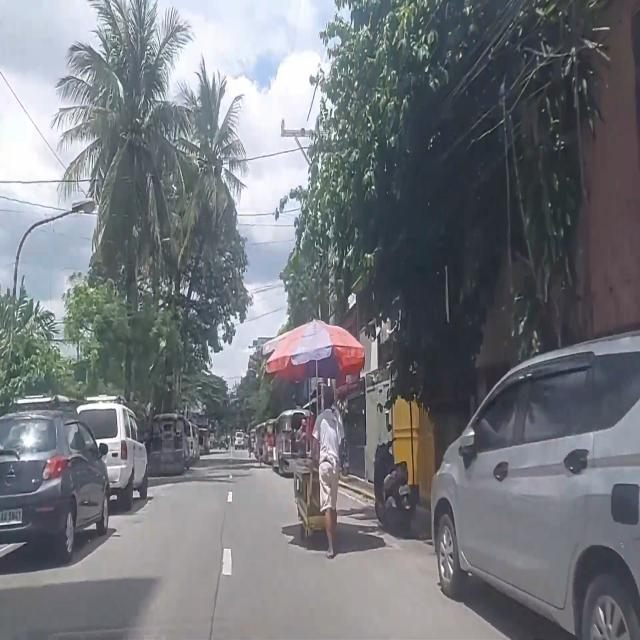car: (430, 332, 638, 636), (0, 408, 109, 564), (74, 398, 147, 510), (373, 438, 413, 535)
jeepney: (272, 408, 313, 477), (152, 412, 191, 477), (262, 418, 276, 468), (198, 425, 212, 456)
motorcycle: (373, 438, 413, 535)
